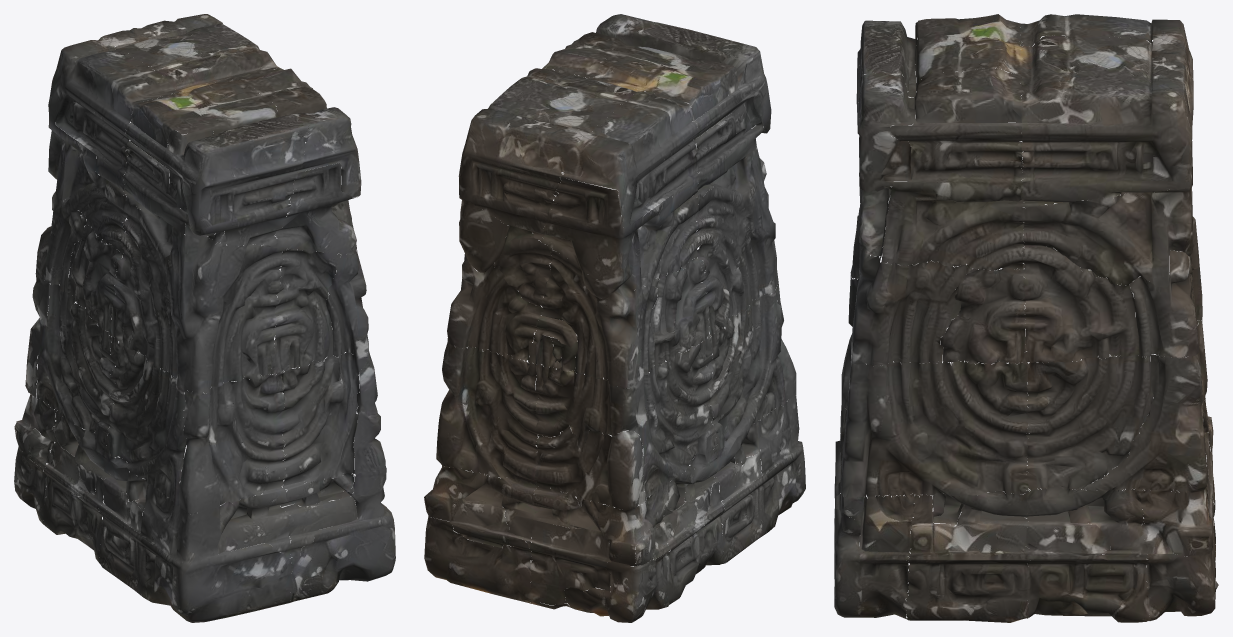
The model's file is ruin_pillar_vaelor_LOD0.glb.
3 renders of one model, left to right at view 1: azimuth 30°, elevation 25°; view 2: azimuth 150°, elevation 25°; view 3: azimuth 270°, elevation 25°, orthographic. The views are drawn at different scales.
Visible parts, largest first — view 1: tripo_node_f299f018-ef50-4f2a-830b-34e6a2a2bba3; view 2: tripo_node_f299f018-ef50-4f2a-830b-34e6a2a2bba3; view 3: tripo_node_f299f018-ef50-4f2a-830b-34e6a2a2bba3.
Part boxes in pixels (x1,y1,x2,y2): tripo_node_f299f018-ef50-4f2a-830b-34e6a2a2bba3: (14,14,395,622); tripo_node_f299f018-ef50-4f2a-830b-34e6a2a2bba3: (424,14,805,622); tripo_node_f299f018-ef50-4f2a-830b-34e6a2a2bba3: (834,14,1218,622).
Size of the model in its own units: 0.491 by 1 by 0.6747.
1 material, 1 textured.
